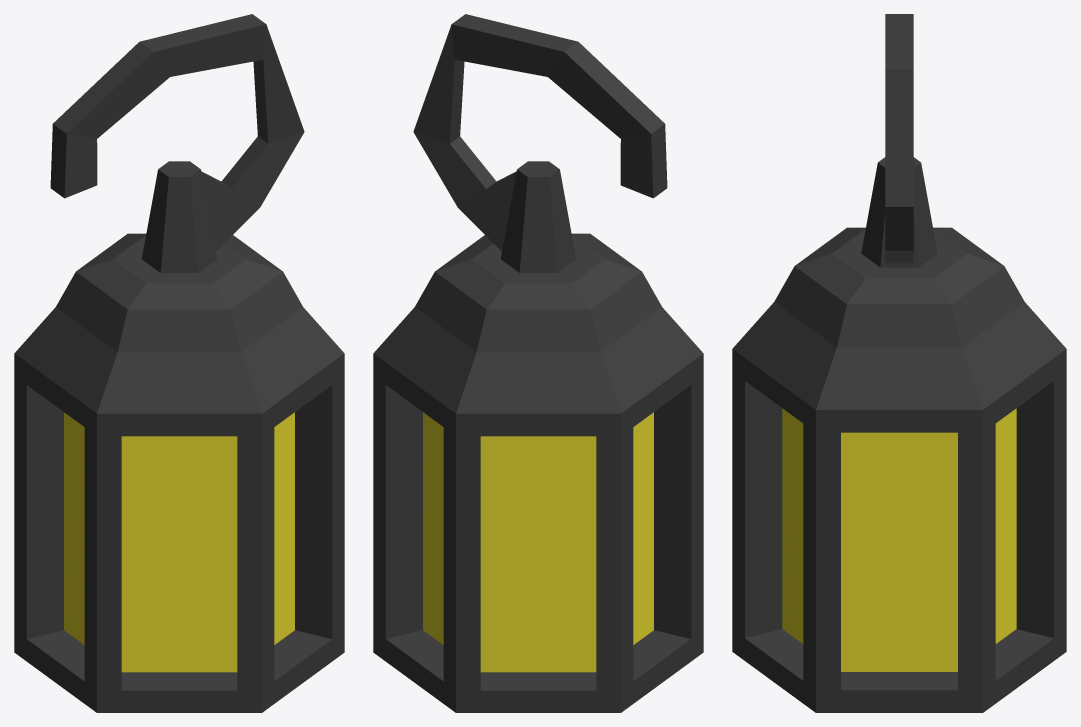
The model's file is Lantern_Decoration (1).fbx.
3 renders of one model, left to right at view 1: azimuth 30°, elevation 25°; view 2: azimuth 150°, elevation 25°; view 3: azimuth 270°, elevation 25°, orthographic.
Parts seen in each view (by area): view 1: Cylinder, Cylinder.001; view 2: Cylinder, Cylinder.001; view 3: Cylinder, Cylinder.001.
Boxes of the visible parts, bbox=[...] form: Cylinder: bbox=[14, 14, 344, 712]; Cylinder.001: bbox=[64, 412, 294, 672]; Cylinder: bbox=[373, 14, 703, 712]; Cylinder.001: bbox=[423, 412, 653, 672]; Cylinder: bbox=[732, 14, 1066, 712]; Cylinder.001: bbox=[782, 408, 1016, 671].
Bounding box in the file's own units: 173 × 410 × 200.
